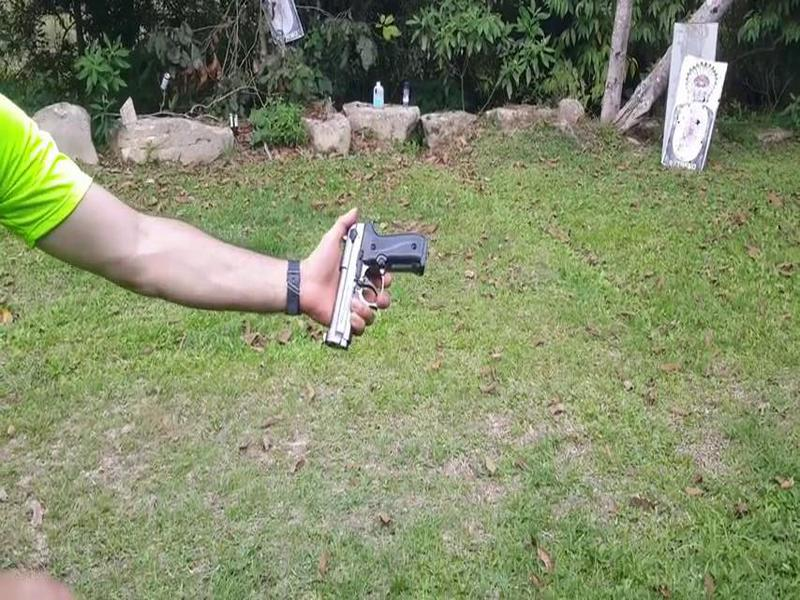Pistola: (306, 217, 434, 358)
